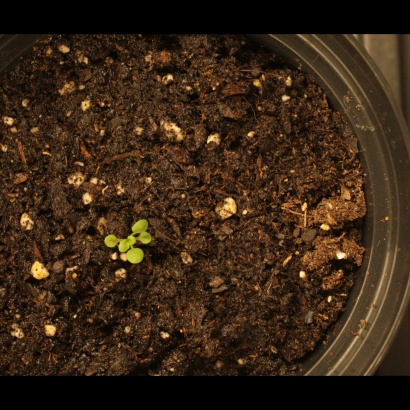leaf: (116, 230, 139, 255), (127, 247, 150, 270), (138, 232, 161, 255), (133, 214, 156, 237), (100, 232, 123, 255)
